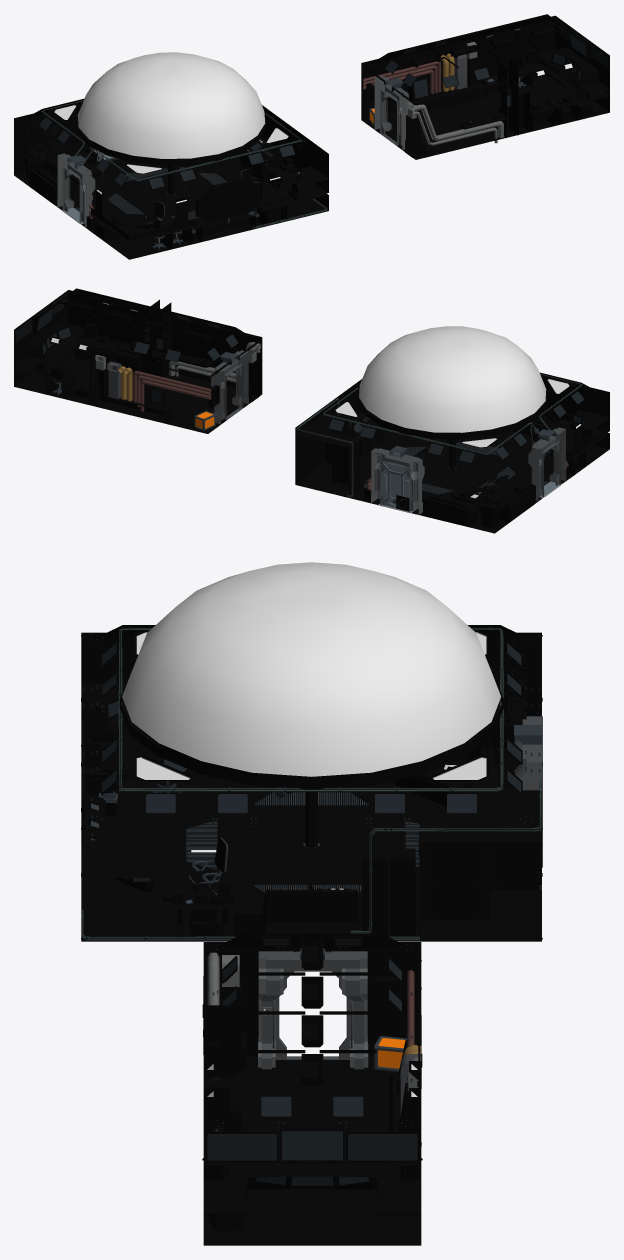
Rendered from SRooms (3).fbx.
3 renders of one model, top to bottom at view 1: azimuth 30°, elevation 25°; view 2: azimuth 150°, elevation 25°; view 3: azimuth 270°, elevation 25°, orthographic. The views are drawn at different scales.
Visible parts, largest first — view 1: steklo kupol, room, Main, comp block.001, comp.003, doska, gorshok, ROOMx2_S, A1.001, stol, Plane, stol.001 (+18 smaller); view 2: steklo kupol, Main, room, comp block.001, ROOMx2_S, comp.003, shkaf1, A1.001, Plane, Door.001, gorshok, divan.002 (+17 smaller); view 3: steklo kupol, Main, room, comp.003, shkaf1, A1.001, Plane, stol, gorshok, comp upravleniya, Cube.003, reshetka (+21 smaller).
Boxes of the visible parts, bbox=[...] form: steklo kupol: bbox=[77, 52, 265, 158]; room: bbox=[361, 14, 609, 159]; Main: bbox=[14, 98, 328, 259]; comp block.001: bbox=[363, 42, 498, 113]; comp.003: bbox=[539, 16, 609, 98]; doska: bbox=[195, 177, 261, 222]; gorshok: bbox=[15, 114, 61, 185]; ROOMx2_S: bbox=[57, 147, 103, 227]; A1.001: bbox=[374, 75, 412, 149]; stol: bbox=[255, 167, 328, 225]; Plane: bbox=[518, 62, 609, 124]; stol.001: bbox=[91, 208, 195, 249]; steklo kupol: bbox=[359, 326, 546, 432]; Main: bbox=[295, 372, 609, 533]; room: bbox=[14, 288, 262, 433]; comp block.001: bbox=[70, 355, 211, 423]; ROOMx2_S: bbox=[371, 427, 566, 514]; comp.003: bbox=[14, 290, 84, 372]; shkaf1: bbox=[296, 413, 359, 497]; A1.001: bbox=[211, 350, 248, 424]; Plane: bbox=[14, 336, 121, 398]; Door.001: bbox=[381, 461, 415, 511]; gorshok: bbox=[457, 471, 509, 527]; divan.002: bbox=[423, 495, 479, 526]; steklo kupol: bbox=[122, 562, 500, 776]; Main: bbox=[81, 625, 541, 941]; room: bbox=[202, 933, 422, 1245]; comp.003: bbox=[203, 1125, 421, 1199]; shkaf1: bbox=[418, 790, 541, 936]; A1.001: bbox=[258, 951, 368, 1069]; Plane: bbox=[202, 1157, 422, 1215]; stol: bbox=[81, 840, 234, 936]; gorshok: bbox=[484, 633, 541, 764]; comp upravleniya: bbox=[264, 882, 358, 932]; Cube.003: bbox=[301, 938, 323, 1085]; reshetka: bbox=[186, 792, 419, 892].
Bounding box in the file's own units: 25.62 × 6.24 × 10.02.
